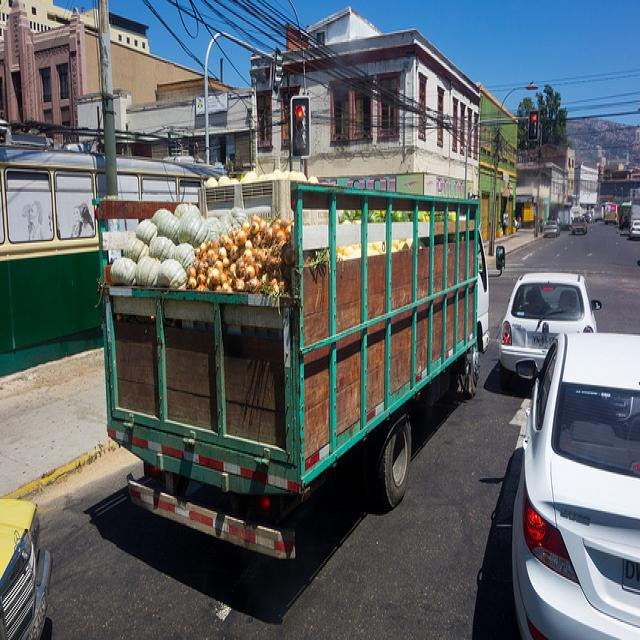Vehicle: (92, 179, 506, 561), (507, 326, 640, 633), (501, 266, 600, 377), (2, 498, 54, 639), (618, 204, 632, 232), (570, 215, 588, 236), (542, 220, 560, 237), (629, 219, 640, 239), (604, 213, 617, 225), (583, 212, 593, 223)
